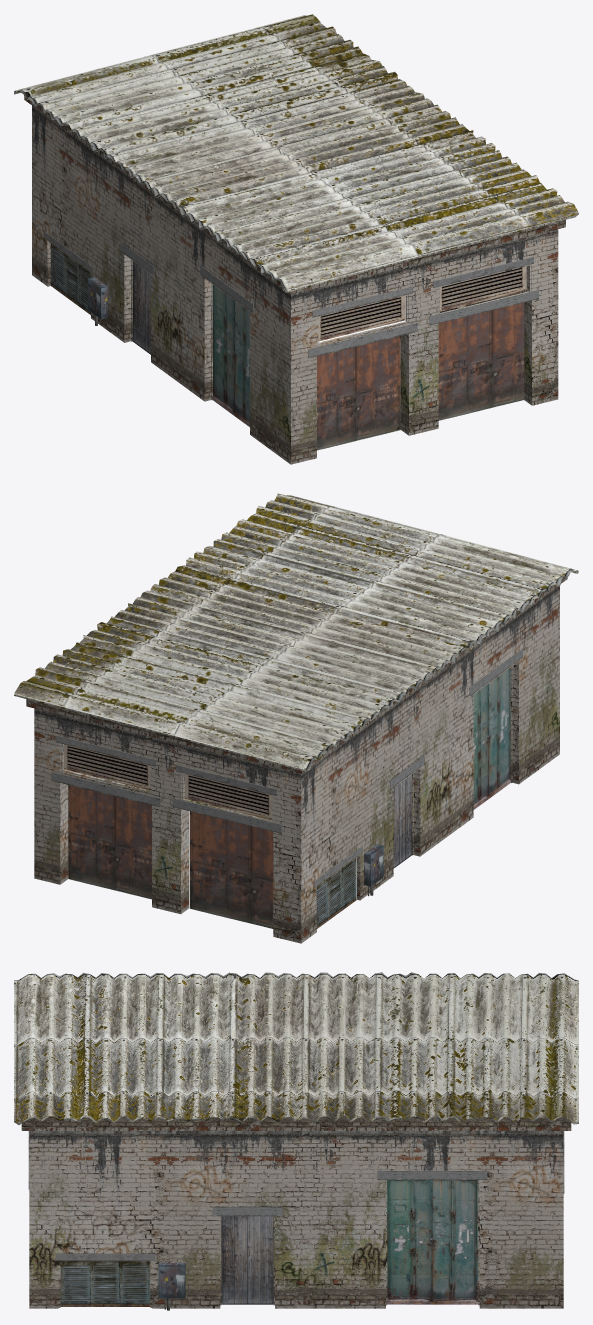
File: heaping.glb
3 renders of one model, top to bottom at view 1: azimuth 30°, elevation 25°; view 2: azimuth 150°, elevation 25°; view 3: azimuth 270°, elevation 25°, orthographic. The views are drawn at different scales.
Visible parts, largest first — view 1: Box001; view 2: Box001; view 3: Box001.
Part boxes in pixels (x1=…): Box001: x1=14, y1=14, x2=578, y2=464; Box001: x1=14, y1=493, x2=578, y2=943; Box001: x1=14, y1=972, x2=578, y2=1310.
Size of the model in its own units: 7155 by 4390 by 11293.
Materials: 11 (11 with a texture image).
